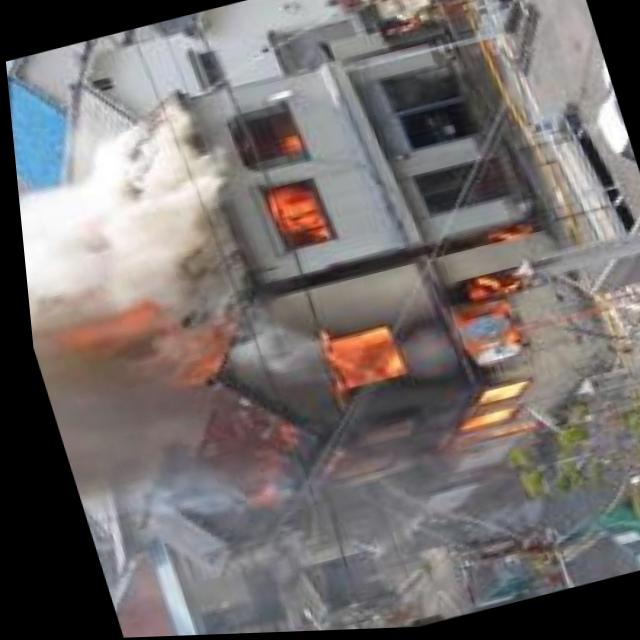Fire: (277, 220, 587, 475), (57, 285, 237, 409), (247, 124, 325, 245)
